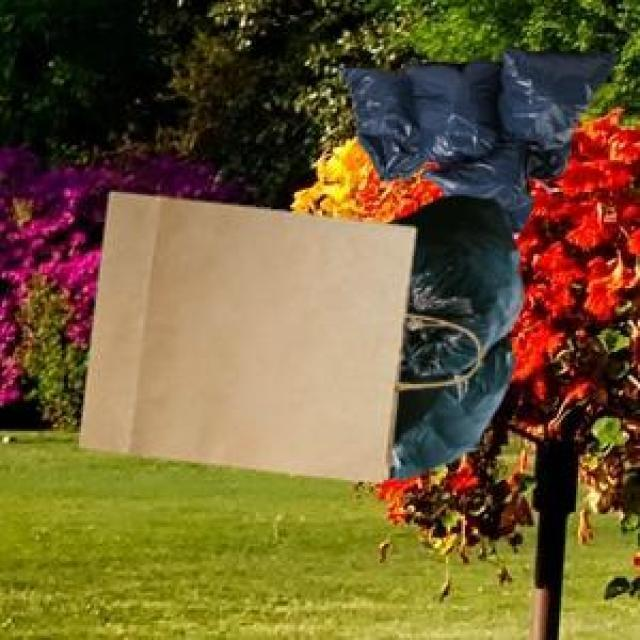miscellaneous trash: (333, 45, 616, 235), (384, 192, 521, 476)
paper: (75, 188, 478, 478)
